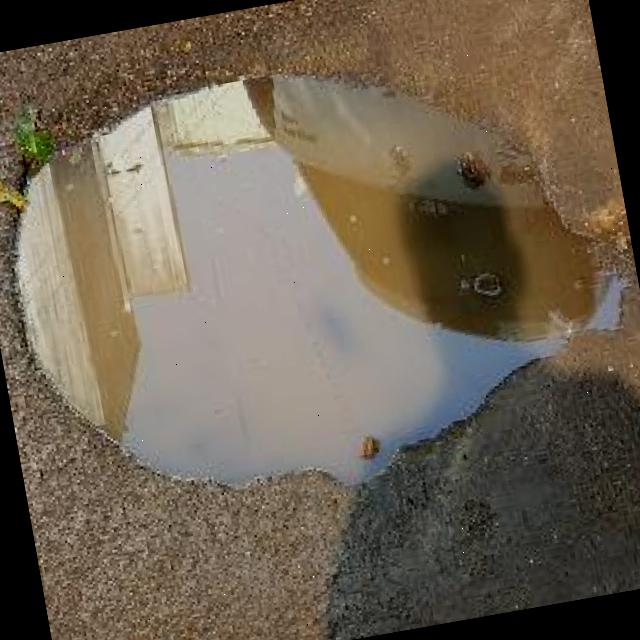stagnation: (0, 22, 622, 524)
